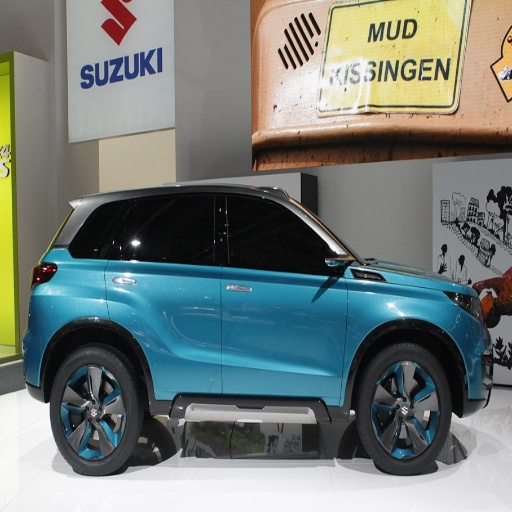back_right_door: (106, 192, 221, 406)
front_right_door: (220, 192, 348, 400)
